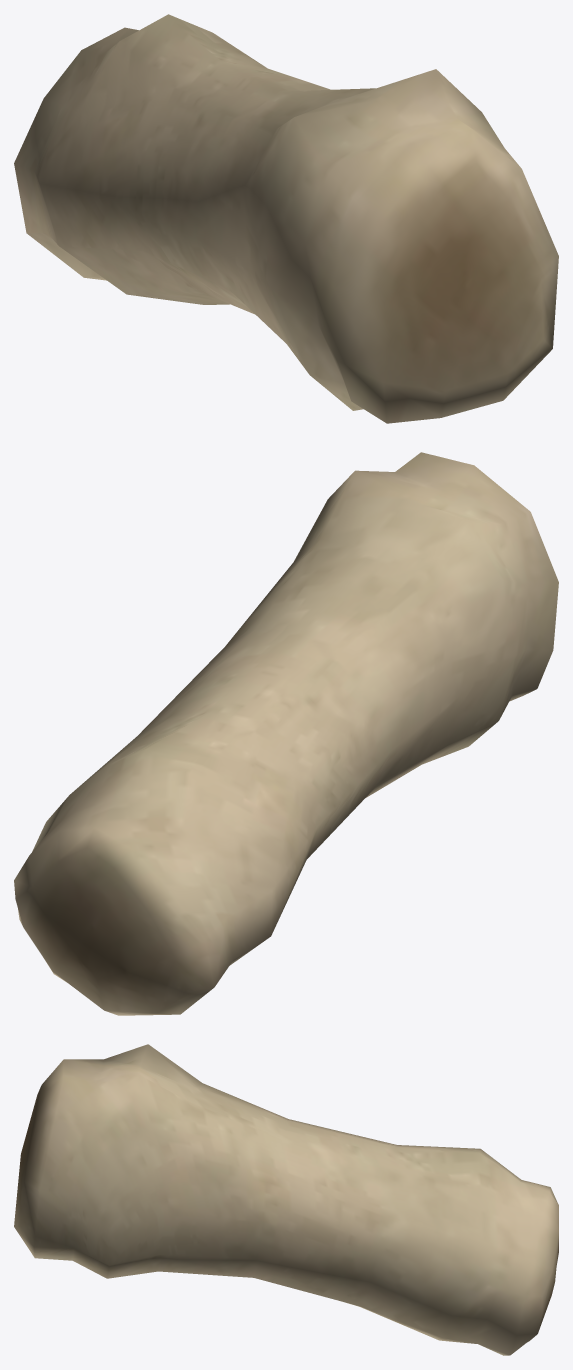
The model's file is Caudal_Vertebrae9.glb.
The picture shows the model from 3 angles, top to bottom: view 1: azimuth 30°, elevation 25°; view 2: azimuth 150°, elevation 25°; view 3: azimuth 270°, elevation 25°; orthographic projection. The views are drawn at different scales.
Visible parts, largest first — view 1: Caudal_Vertebrae_28:Group43710; view 2: Caudal_Vertebrae_28:Group43710; view 3: Caudal_Vertebrae_28:Group43710.
Part boxes in pixels (x1,y1,x2,y2): Caudal_Vertebrae_28:Group43710: (14,14,558,423); Caudal_Vertebrae_28:Group43710: (14,452,558,1015); Caudal_Vertebrae_28:Group43710: (14,1044,558,1355).
Bounding box in the file's own units: 8.02 × 11.26 × 19.72.
1 material, 1 textured.
